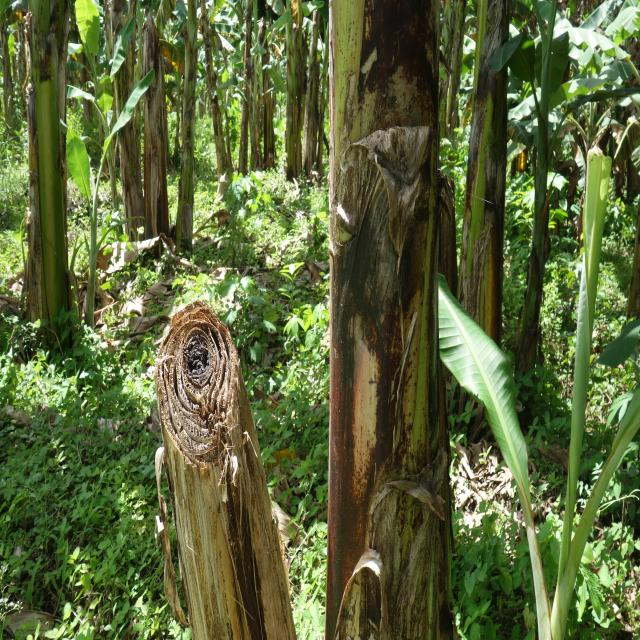Banana-plant: (322, 1, 450, 640), (454, 0, 507, 430), (18, 0, 79, 353), (136, 0, 174, 263), (175, 0, 201, 254), (115, 0, 139, 241), (280, 0, 305, 181)
